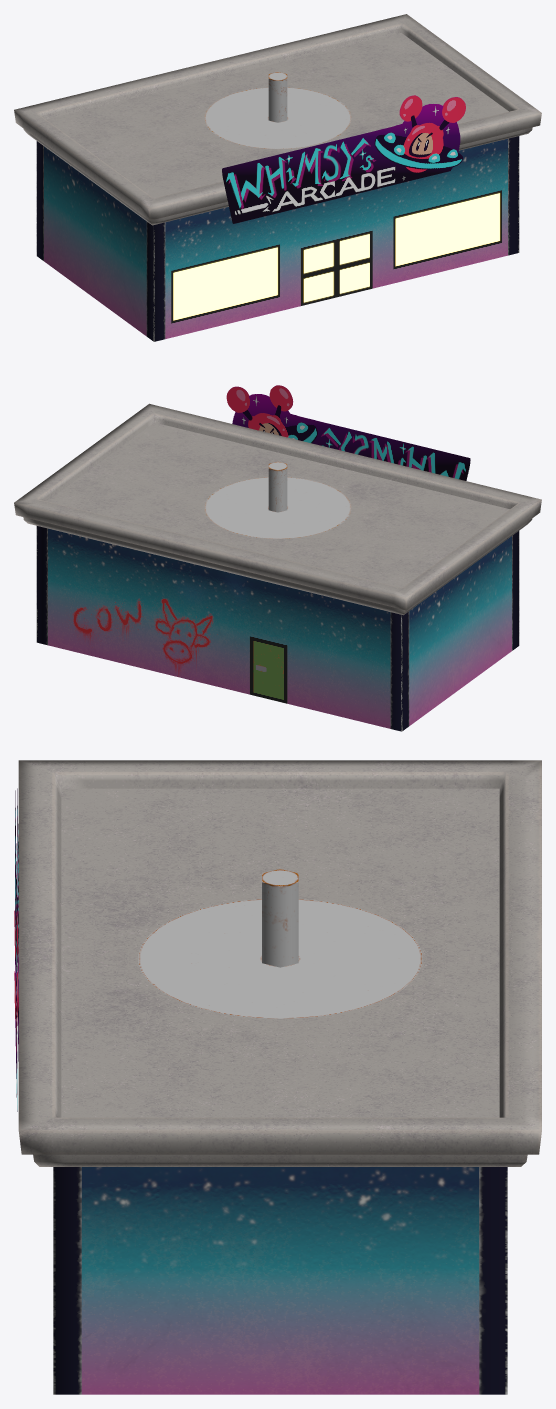
File: House_W.fbx
The picture shows the model from 3 angles, top to bottom: view 1: azimuth 30°, elevation 25°; view 2: azimuth 150°, elevation 25°; view 3: azimuth 270°, elevation 25°; orthographic projection. The views are drawn at different scales.
Visible parts, largest first — view 1: House_W, Sign_Whimsy; view 2: House_W, Sign_Whimsy; view 3: House_W, Sign_Whimsy.
Boxes of the visible parts, x1,y1,x2,y2 form: House_W: (14,14,541,341); Sign_Whimsy: (222,95,465,223); House_W: (14,403,541,731); Sign_Whimsy: (226,385,470,480); House_W: (18,760,541,1394); Sign_Whimsy: (14,788,18,1111).
Bounding box in the file's own units: 361 × 180 × 217.
